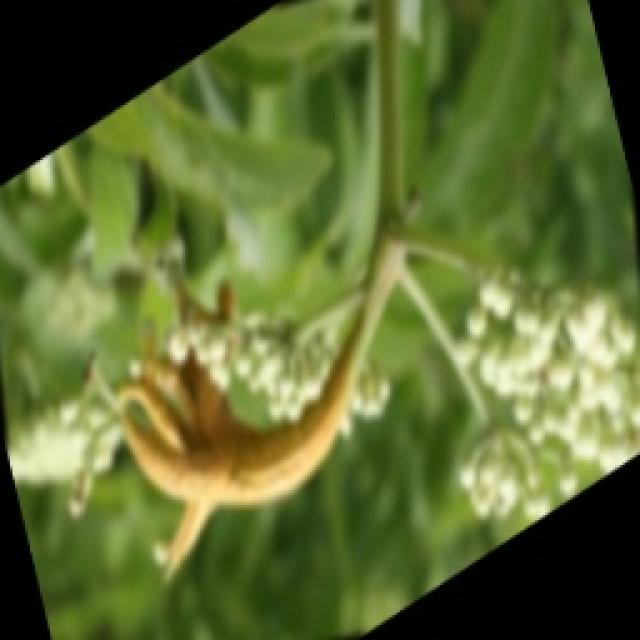Elderberry_rust: (101, 324, 372, 514)
